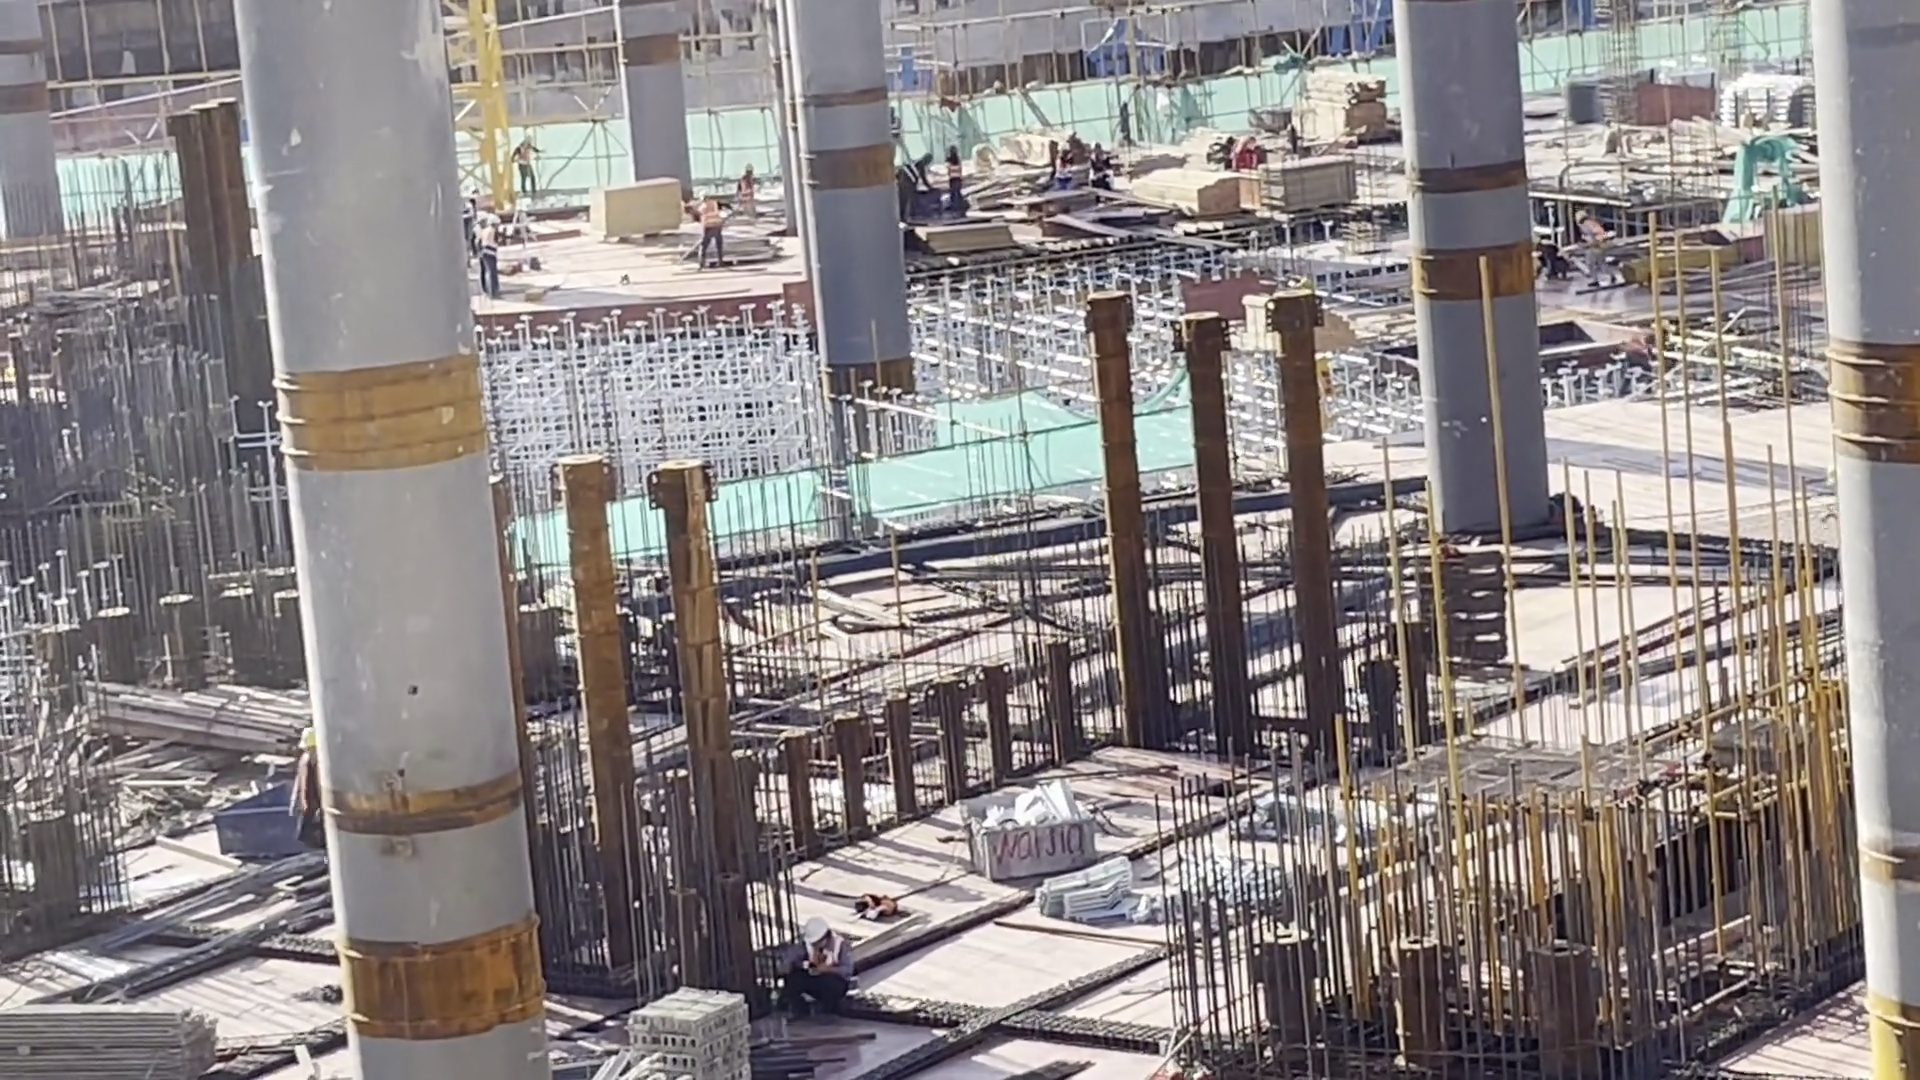helmet: (787, 913, 834, 955), (287, 715, 324, 755)
person: (768, 913, 863, 1022), (285, 723, 334, 852), (1568, 196, 1620, 283), (500, 113, 541, 212), (685, 176, 722, 269), (897, 139, 933, 220), (944, 130, 970, 223), (480, 220, 511, 287)
